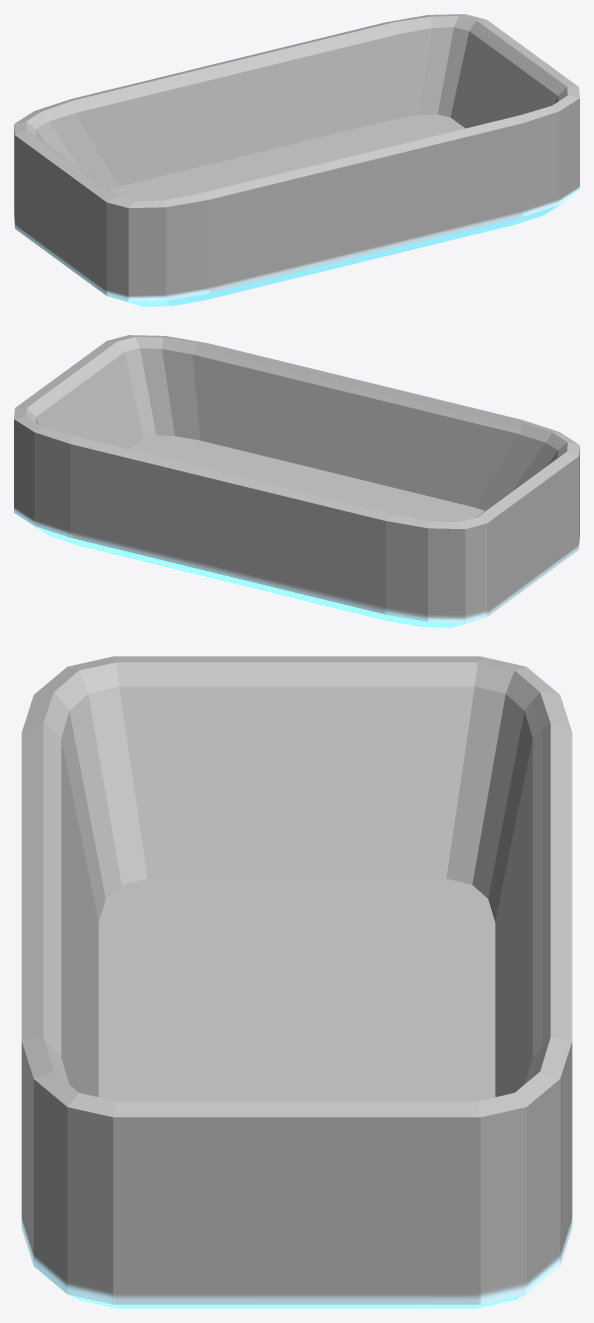
File: BathTub.fbx
3 views of the same model, one above another, from view 1: azimuth 30°, elevation 25°; view 2: azimuth 150°, elevation 25°; view 3: azimuth 270°, elevation 25° (orthographic). The views are drawn at different scales.
Visible parts, largest first — view 1: BathTub; view 2: BathTub; view 3: BathTub.
Part boxes in pixels (x1,y1,x2,y2): BathTub: (14, 14, 579, 306); BathTub: (14, 335, 579, 627); BathTub: (21, 656, 572, 1308).
Size of the model in its own units: 198 by 45.39 by 100.
